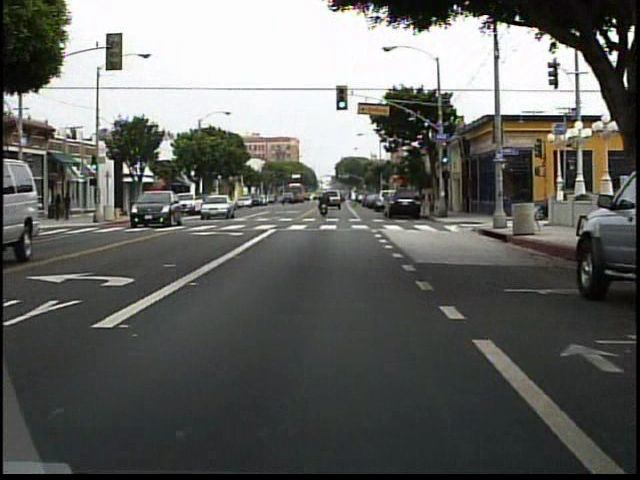person: (318, 189, 331, 219), (65, 191, 76, 222), (56, 192, 65, 222)
